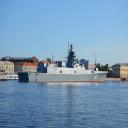Fragata: (17, 43, 111, 84)
